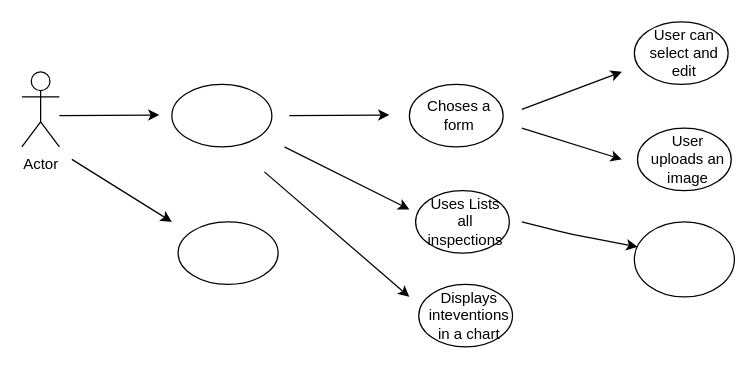
Image size: 756x369. Some labels were removed from this diagram. Here are the shapes that lost their labels. From the top down, the centre of each, then its label:
At point (221, 115): "User Logs in".
At point (227, 252): "User Creates an account".
At point (683, 259): "User views an inspection in detail".
